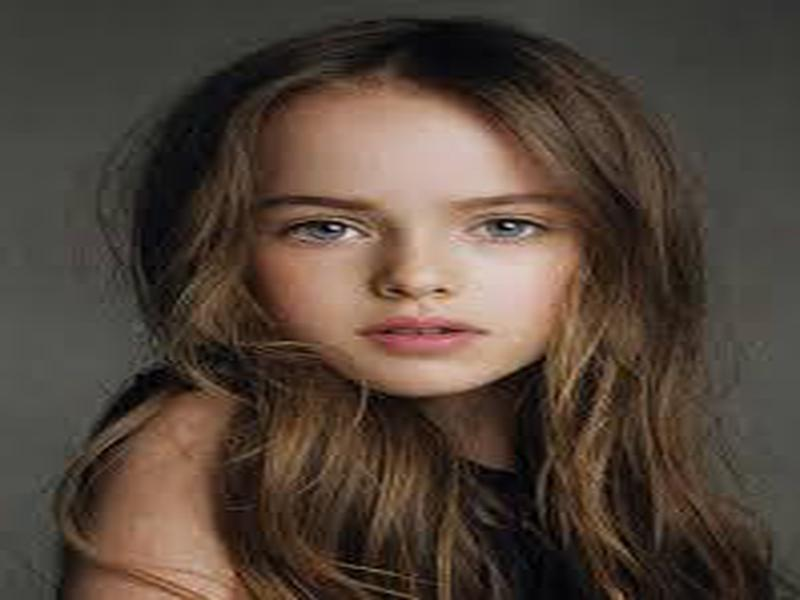without_mask: (249, 136, 597, 395)
